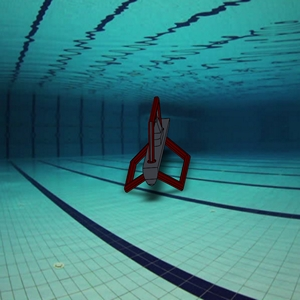submarine: (111, 90, 206, 208)
